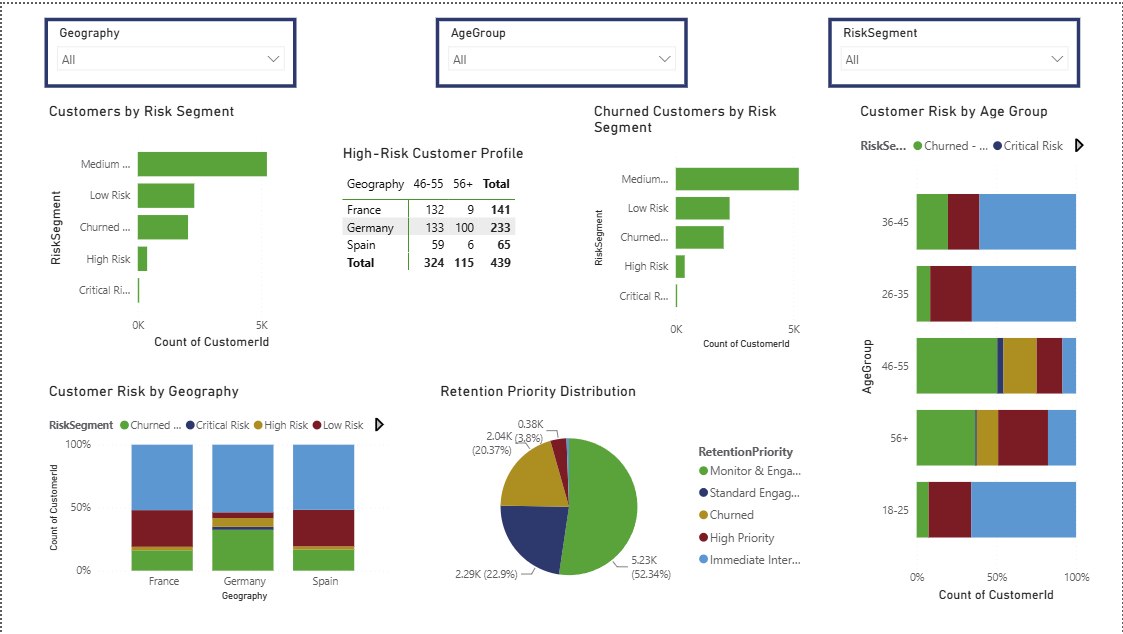

The page's visual inventory and layout, read from the dashboard file:
{"tool":"powerbi","page":{"name":"Customer Risk & Retention Analysis","canvas":[1280,720],"ordinal":2},"visuals":[{"type":"clusteredBarChart","title":"Customers by Risk Segment","fields":{"Category":["customer_churn_cleaned.RiskSegment"],"Y":["CountNonNull(customer_churn_cleaned.CustomerId)"]},"box":[48,112,288,288],"z":1000},{"type":"clusteredBarChart","title":"Churned Customers by Risk Segment","fields":{"Category":["customer_churn_cleaned.RiskSegment"],"Y":["CountNonNull(customer_churn_cleaned.CustomerId)"]},"box":[672,112,272,288],"z":2000},{"type":"hundredPercentStackedColumnChart","title":"Customer Risk by Geography","fields":{"Category":["customer_churn_cleaned.Geography"],"Y":["CountNonNull(customer_churn_cleaned.CustomerId)"],"Series":["customer_churn_cleaned.RiskSegment"]},"box":[48,432,400,256],"z":3000},{"type":"hundredPercentStackedBarChart","title":"Customer Risk by Age Group","fields":{"Category":["customer_churn_cleaned.AgeGroup"],"Y":["CountNonNull(customer_churn_cleaned.CustomerId)"],"Series":["customer_churn_cleaned.RiskSegment"]},"box":[976,112,272,576],"z":4000},{"type":"pivotTable","title":"High-Risk Customer Profile","fields":{"Rows":["customer_churn_cleaned.Geography"],"Columns":["customer_churn_cleaned.AgeGroup"],"Values":["CountNonNull(customer_churn_cleaned.CustomerId)"]},"box":[384,160,240,176],"z":5000},{"type":"pieChart","title":"Retention Priority Distribution","fields":{"Category":["customer_churn_cleaned.RetentionPriority"],"Y":["CountNonNull(customer_churn_cleaned.CustomerId)"]},"box":[496,432,432,256],"z":6000},{"type":"slicer","fields":{"Values":["customer_churn_cleaned.Geography"]},"box":[48,16,288,80],"z":7000},{"type":"slicer","fields":{"Values":["customer_churn_cleaned.AgeGroup"]},"box":[496,16,288,80],"z":8000},{"type":"slicer","fields":{"Values":["customer_churn_cleaned.RiskSegment"]},"box":[944,16,288,80],"z":9000}]}

Visuals, with their boxes in screenshot pixels (x1, y1, x2, y2), scaled from the page's 1280x720 canvas onto the 1123x634 screenshot:
"Customers by Risk Segment" clusteredBarChart: [42,99,295,352]
"Churned Customers by Risk Segment" clusteredBarChart: [590,99,828,352]
"Customer Risk by Geography" hundredPercentStackedColumnChart: [42,380,393,606]
"Customer Risk by Age Group" hundredPercentStackedBarChart: [856,99,1095,606]
"High-Risk Customer Profile" pivotTable: [337,141,547,296]
"Retention Priority Distribution" pieChart: [435,380,814,606]
slicer - customer_churn_cleaned.Geography: [42,14,295,85]
slicer - customer_churn_cleaned.AgeGroup: [435,14,688,85]
slicer - customer_churn_cleaned.RiskSegment: [828,14,1081,85]
